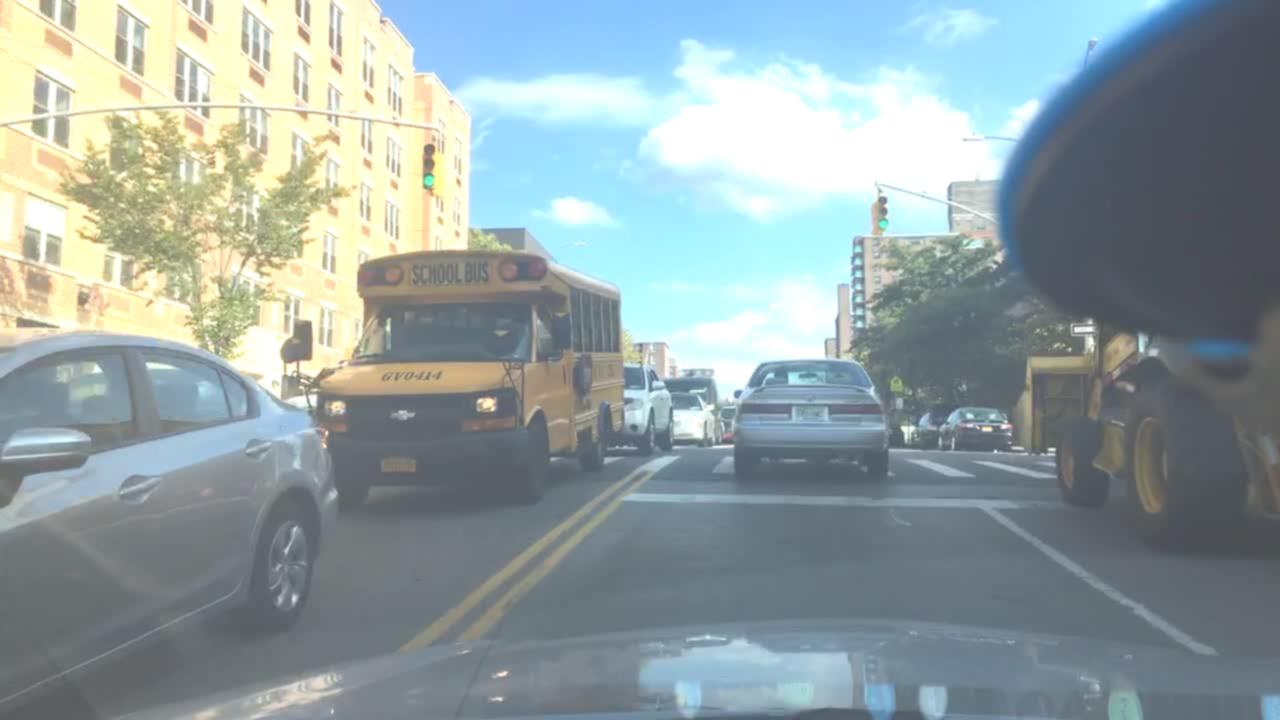chevrolet: (382, 403, 423, 427)
